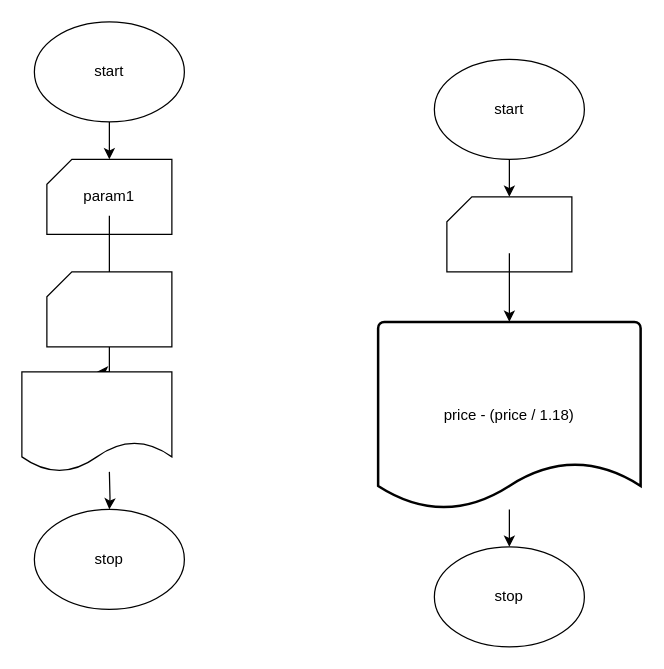
The diagram is 664 pixels wide and 669 high, and some of its shapes have lost their labels. The box of each missing label's shape, as (x1, y1, x2, y2) in pixels:
param1 + param2: (21, 371, 172, 472)
param2: (46, 271, 172, 347)
price: (446, 196, 572, 272)
